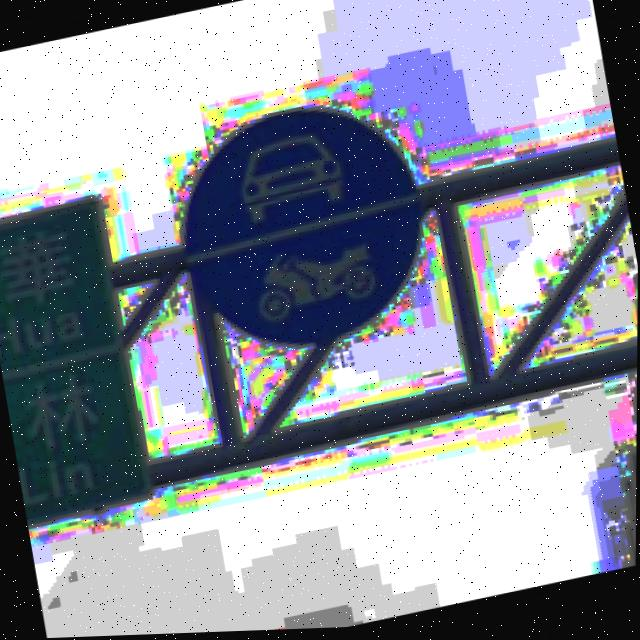carmotorcycle: (183, 110, 424, 348)
